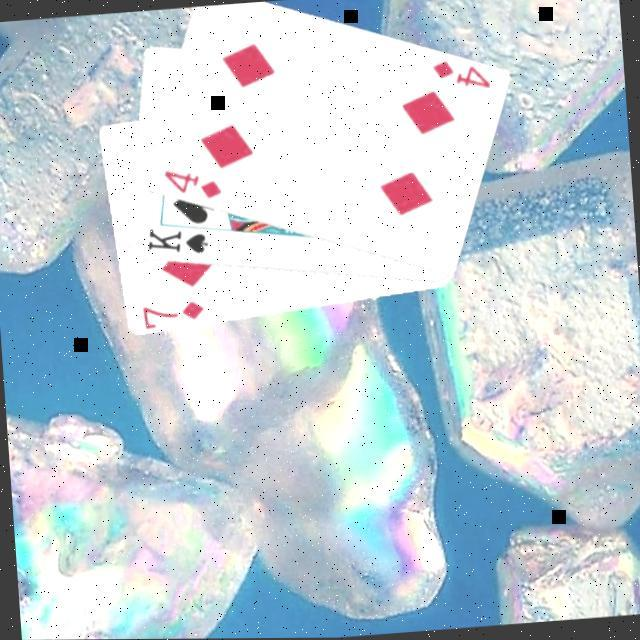4D: (161, 165, 226, 208), (429, 56, 495, 98)
7D: (140, 298, 210, 332)
KS: (144, 223, 214, 262)
